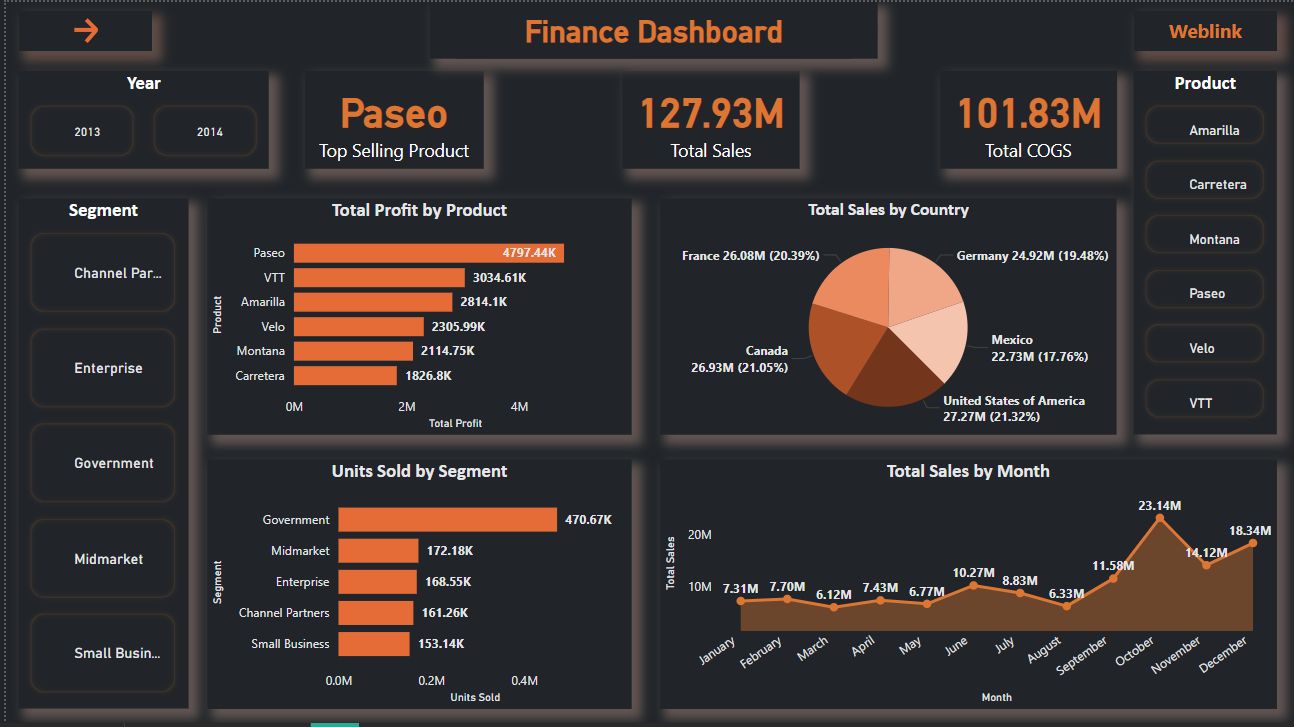

What the dashboard file says about the page in this screenshot:
{"tool":"powerbi","page":{"name":"Finance Dashboard ","canvas":[1280,720],"ordinal":0},"visuals":[{"type":"card","fields":{"Values":["Sum(financials.Gross Sales)"]},"box":[608.8,68.4,175.4,97],"z":0},{"type":"card","fields":{"Values":["financials.Top Selling Product"]},"box":[294.6,68.4,176.6,97],"z":1000},{"type":"barChart","fields":{"Y":["Sum(financials.Profit)"],"Category":["financials.Product"]},"box":[199,194.1,419.2,233.9],"z":2000},{"type":"pieChart","fields":{"Category":["financials.Country"],"Y":["Sum(financials.Gross Sales)"]},"box":[645.6,194.1,451.6,233.9],"z":3000},{"type":"shape","box":[418.8,0,442.5,56.2],"z":4000},{"type":"card","fields":{"Values":["Sum(financials.COGS)"]},"box":[921.8,68.4,175.4,97],"z":5000},{"type":"stackedAreaChart","fields":{"Y":["Sum(financials.Gross Sales)"],"Category":["financials.Date.Variation.Date Hierarchy.Month"]},"box":[645.6,451.6,609.5,246.3],"z":6000},{"type":"advancedSlicerVisual","fields":{"Values":["financials.Segment"]},"box":[12.4,194.1,167.9,503.8],"z":7000},{"type":"actionButton","box":[1113.3,8.7,141.8,39.8],"z":8000},{"type":"actionButton","box":[12.4,8.7,132,40],"z":9000},{"type":"advancedSlicerVisual","fields":{"Values":["financials.Date.Variation.Date Hierarchy.Year"]},"box":[12.4,68.4,247.5,97],"z":10000},{"type":"barChart","fields":{"Category":["financials.Segment"],"Y":["Sum(financials.Units Sold)"]},"box":[199,451.6,419.2,246.3],"z":11000},{"type":"advancedSlicerVisual","fields":{"Values":["financials.Product"]},"box":[1113.3,68.4,141.8,359.5],"z":12000}]}

Visuals, with their boxes in screenshot pixels (x1, y1, x2, y2), scaled from the page's 1280x720 canvas onto the 1294x727 screenshot:
card - Sum(financials.Gross Sales): bbox(615, 69, 793, 167)
card - financials.Top Selling Product: bbox(298, 69, 476, 167)
barChart - Sum(financials.Profit) x financials.Product: bbox(201, 196, 625, 432)
pieChart - financials.Country x Sum(financials.Gross Sales): bbox(653, 196, 1109, 432)
shape: bbox(423, 0, 871, 57)
card - Sum(financials.COGS): bbox(932, 69, 1109, 167)
stackedAreaChart - Sum(financials.Gross Sales) x financials.Date.Variation.Date Hierarchy.Month: bbox(653, 456, 1269, 705)
advancedSlicerVisual - financials.Segment: bbox(13, 196, 182, 705)
actionButton: bbox(1125, 9, 1269, 49)
actionButton: bbox(13, 9, 146, 49)
advancedSlicerVisual - financials.Date.Variation.Date Hierarchy.Year: bbox(13, 69, 263, 167)
barChart - financials.Segment x Sum(financials.Units Sold): bbox(201, 456, 625, 705)
advancedSlicerVisual - financials.Product: bbox(1125, 69, 1269, 432)
